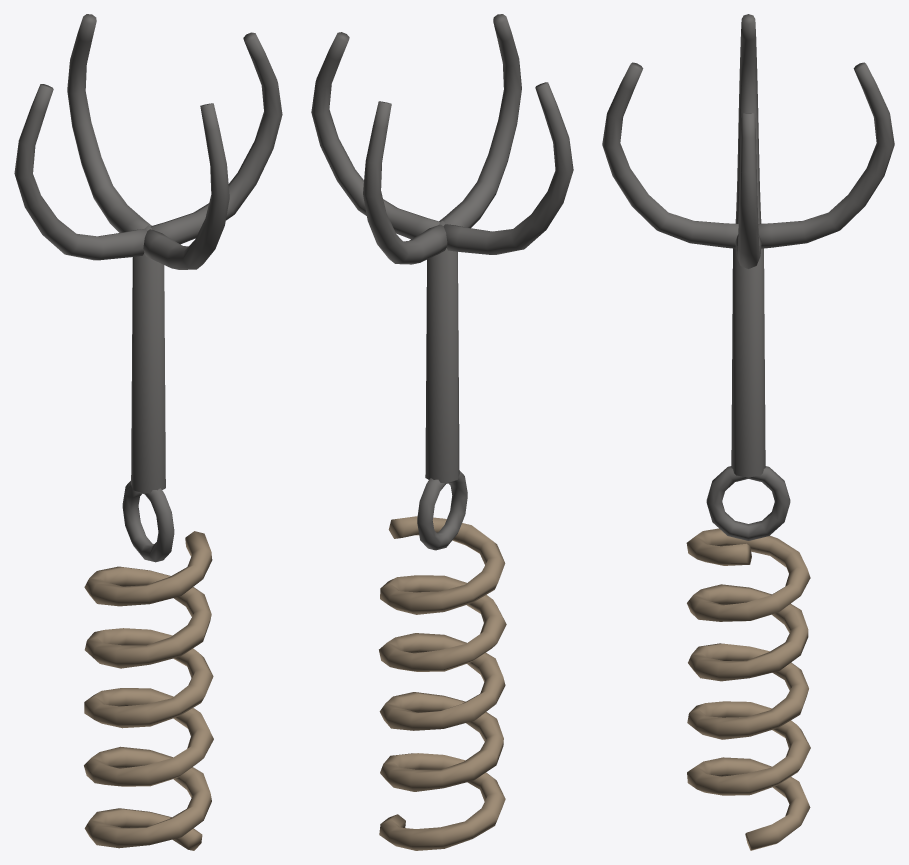
Rendered from grappling-hook.glb.
The picture shows the model from 3 angles, left to right: view 1: azimuth 30°, elevation 25°; view 2: azimuth 150°, elevation 25°; view 3: azimuth 270°, elevation 25°; orthographic projection. The views are drawn at different scales.
Visible parts, largest first — view 1: grappling-hook; view 2: grappling-hook; view 3: grappling-hook.
Boxes of the visible parts, <box> form: grappling-hook: <box>14,14,282,850</box>; grappling-hook: <box>311,14,573,850</box>; grappling-hook: <box>602,14,894,850</box>.
Bounding box in the file's own units: 0.3412 × 0.9849 × 0.3412.
